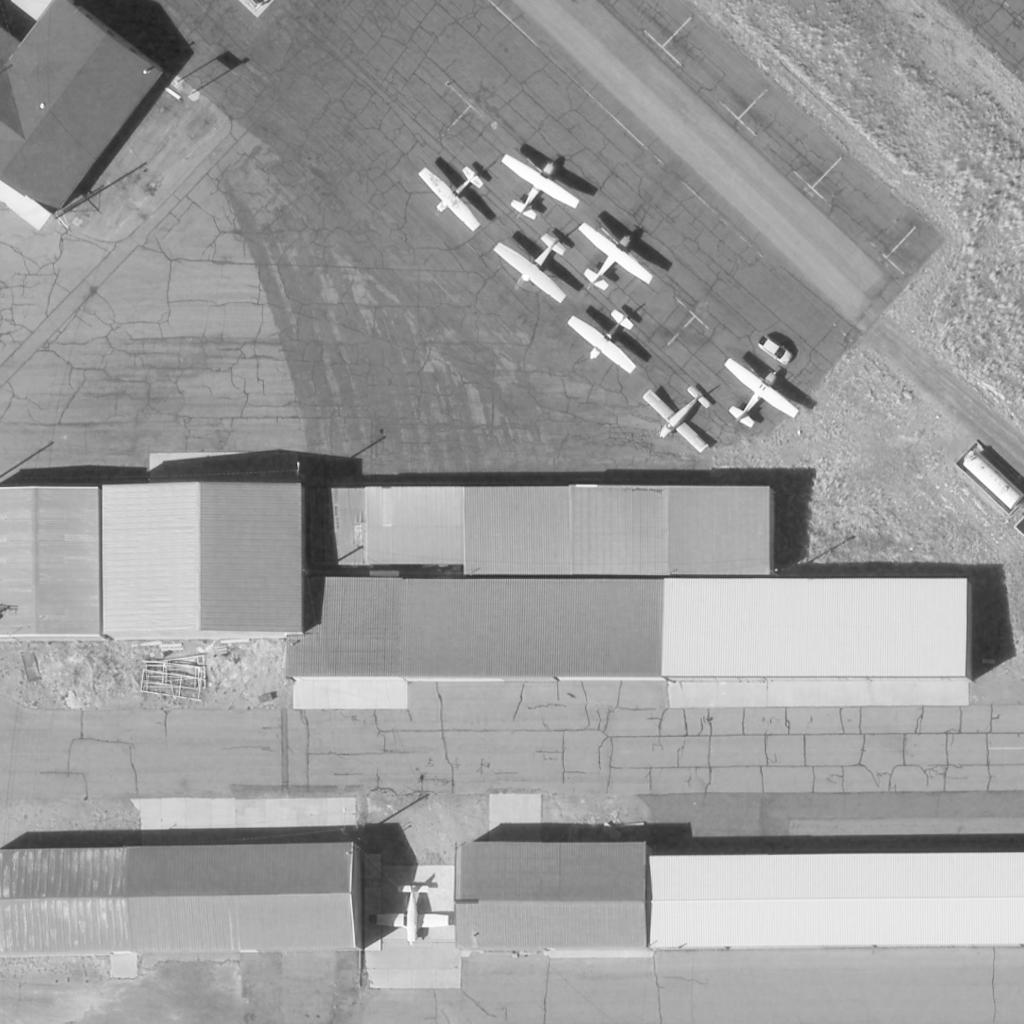vehicle: (753, 336, 795, 362)
